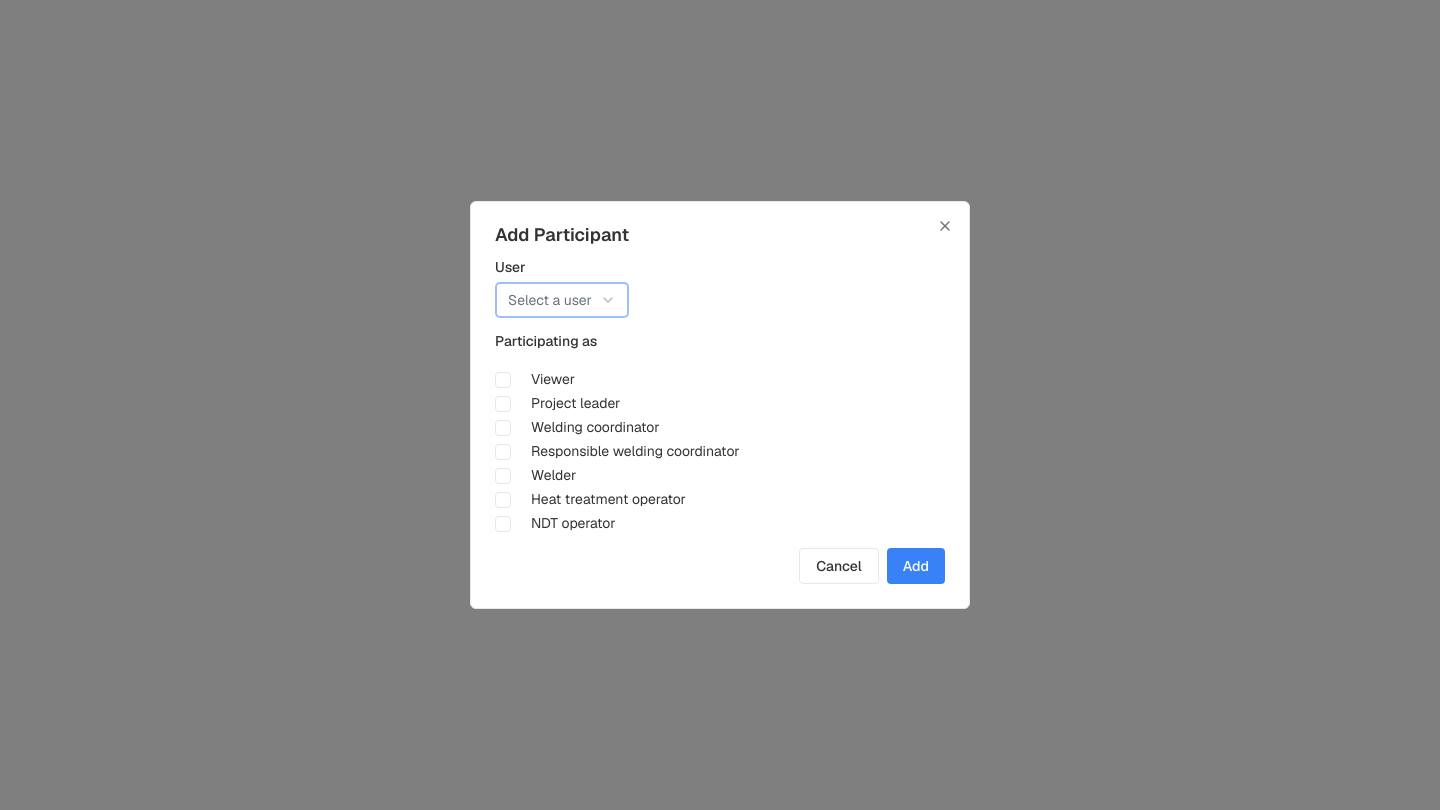
Test case: ParticipantFormDialog › should show validation errors with translated messages
Try to submit without selecting user or roles
Click the button "Add": (916, 566) [887,548,945,584]
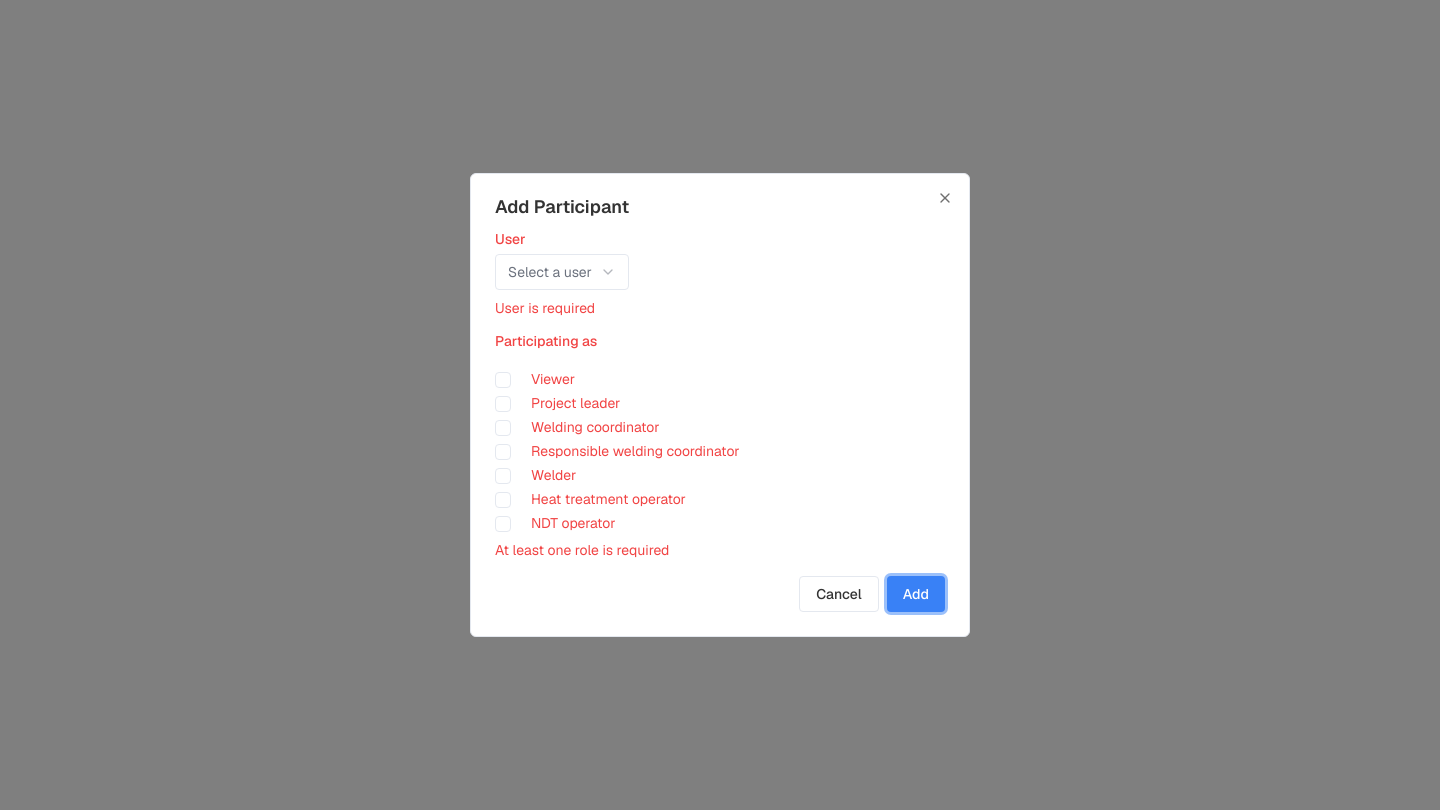
expect the text "User is required" is shown: met, box [495,299,595,317]
expect the text "At least one role is required" is shown: met, box [495,541,669,559]
